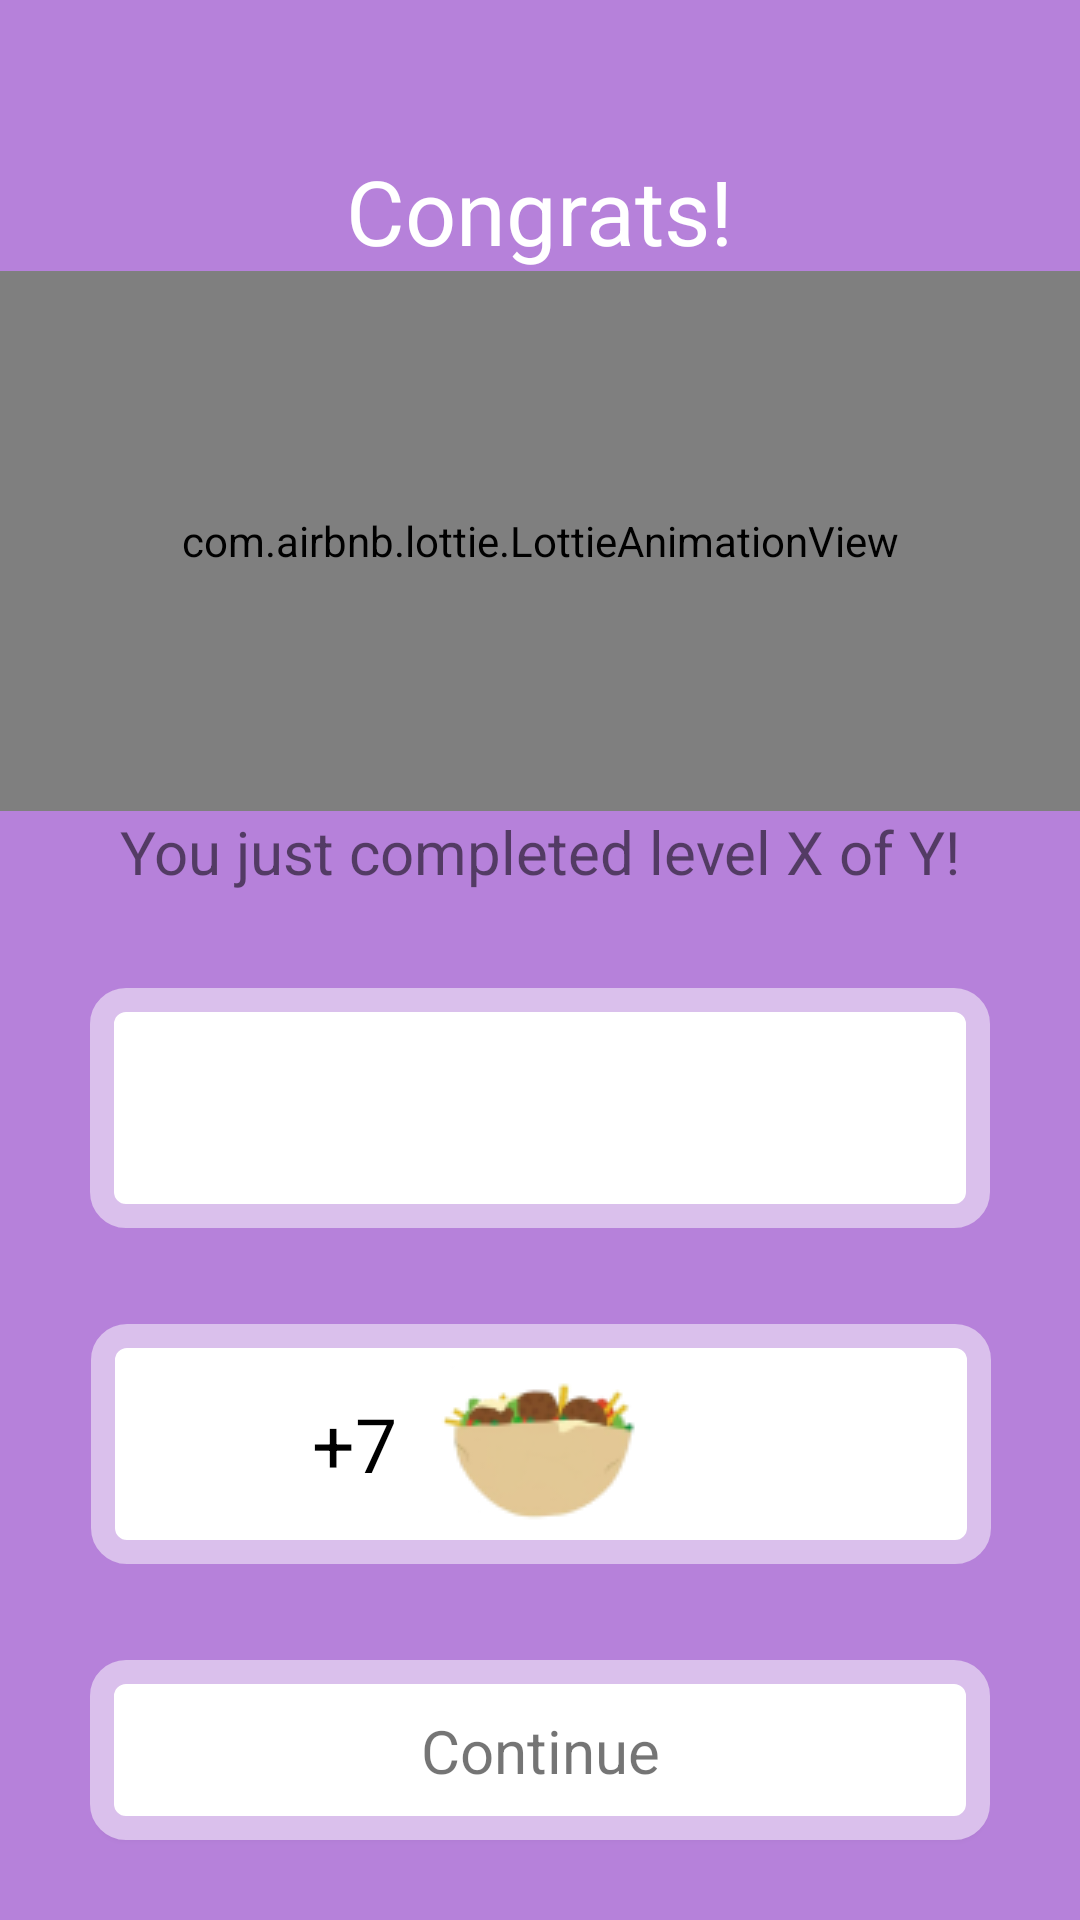

Where to tap for icons on this 1080×1920 app screen, as [x,y]:
flafel: [539,1450]
